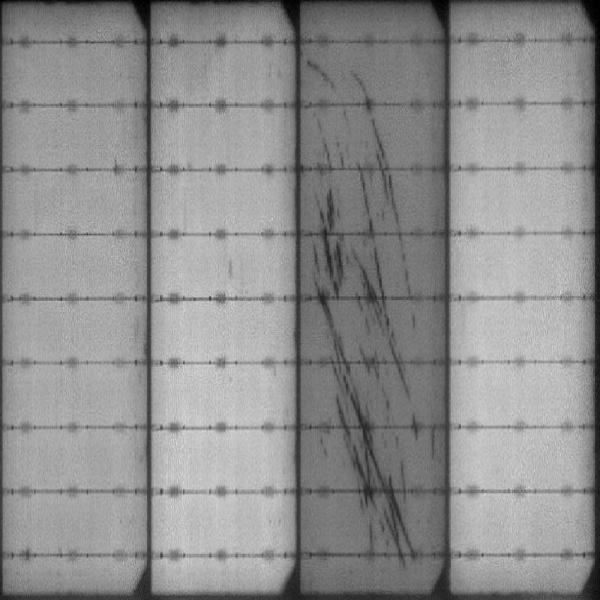scratch: (340, 427, 402, 491), (357, 301, 409, 357), (326, 368, 377, 423), (364, 497, 412, 554), (350, 235, 393, 295), (311, 181, 347, 232), (315, 233, 346, 290), (395, 234, 421, 298), (393, 365, 423, 420), (321, 301, 349, 359), (352, 168, 376, 234), (365, 113, 392, 170), (377, 169, 402, 226), (314, 118, 336, 168), (309, 53, 337, 89), (345, 69, 373, 97)
